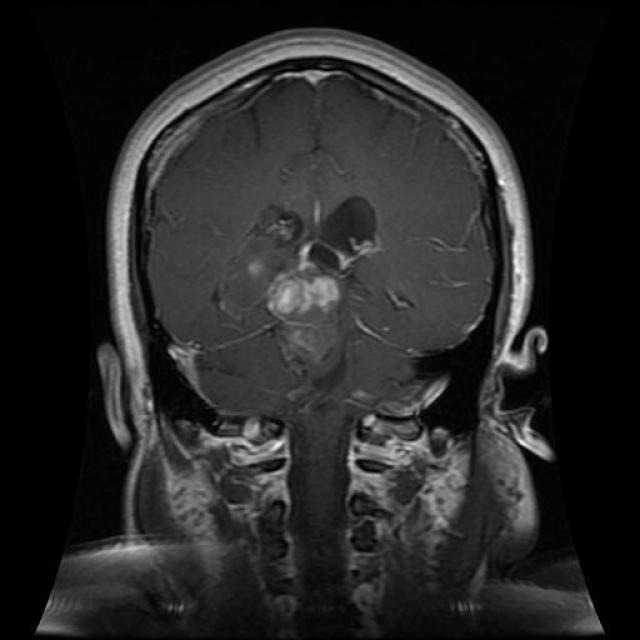glioma: (245, 185, 381, 391)
